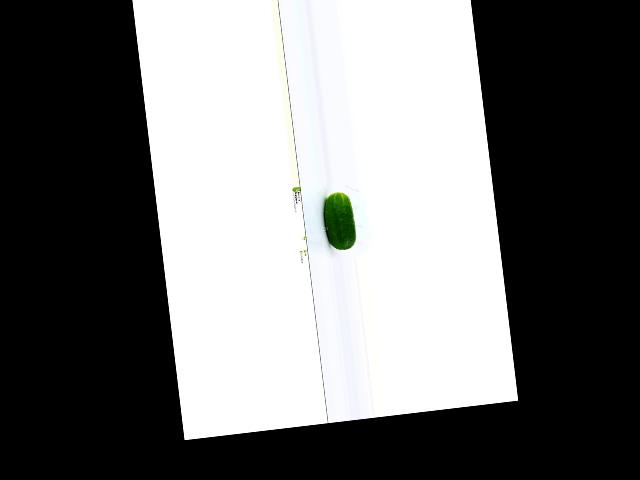cucumber: (321, 191, 356, 252)
